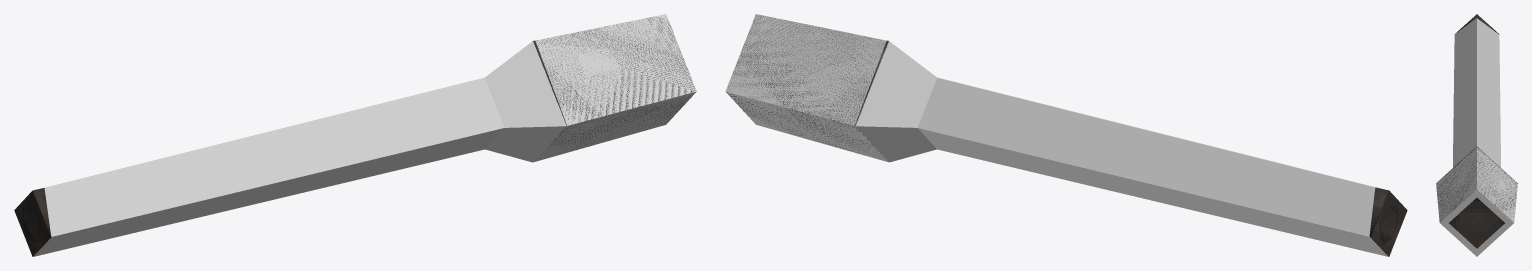
The picture shows the model from 3 angles, left to right: view 1: azimuth 30°, elevation 25°; view 2: azimuth 150°, elevation 25°; view 3: azimuth 270°, elevation 25°; orthographic projection. The views are drawn at different scales.
Parts seen in each view (by area): view 1: surface_001, surface_002, surface_000; view 2: surface_001, surface_002, surface_000; view 3: surface_001, surface_000, surface_002.
Boxes of the visible parts, x1,y1,x2,y2 form: surface_001: (33,14,696,256); surface_002: (536,17,694,160); surface_000: (14,40,566,256); surface_001: (725,14,1388,256); surface_002: (726,15,886,160); surface_000: (855,40,1407,256); surface_001: (1436,18,1517,256); surface_000: (1436,14,1517,248); surface_002: (1437,148,1517,220).
Bounding box in the file's own units: 49.62 × 9.09 × 9.09.
